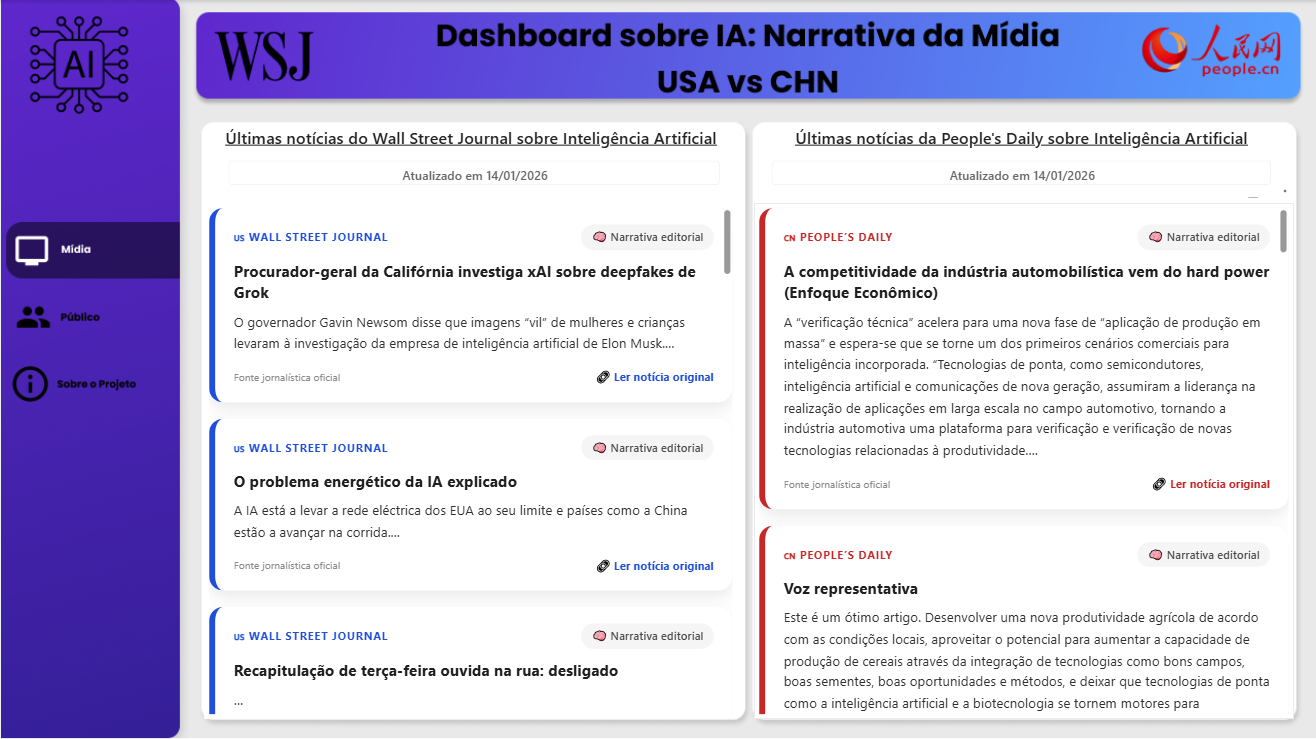

The dashboard page shown, as its layout file describes it:
{"tool":"powerbi","page":{"name":"Mídia","canvas":[1280,720],"ordinal":0},"visuals":[{"type":"htmlContent443BE3AD55E043BF878BED274D3A6855","fields":{"content":["_medidas.Noticia_HTML"],"sampling":["dados.titulo_pt","dados.ordem_coleta"]},"box":[197.4,197.4,519.4,501.9],"z":0},{"type":"htmlContent443BE3AD55E043BF878BED274D3A6855","fields":{"content":["_medidas.Noticia_HTML"],"sampling":["dados.titulo_pt","dados.ordem_coleta"]},"box":[732.4,197.4,525.2,501.9],"z":1000},{"type":"textbox","box":[197.4,117.7,519.4,47.7],"z":2000},{"type":"textbox","box":[732.4,117.7,520.4,47.7],"z":3000},{"type":"pageNavigator","box":[0,217.9,175.1,181.9],"z":4000},{"type":"cardVisual","fields":{"Data":["_medidas.WSJ_DataAtualizacao"]},"box":[204.3,139.1,512.6,58.4],"z":5000},{"type":"cardVisual","fields":{"Data":["_medidas.WSJ_DataAtualizacao"]},"box":[732.4,139.1,520.4,58.4],"z":6000}]}

Visuals, with their boxes on the page's 1280x720 design canvas (x1, y1, x2, y2). These are canvas units, not pixel positions in the 1316x739 screenshot, which may show the page scaled, cropped or inside an application window:
htmlContent443BE3AD55E043BF878BED274D3A6855 - _medidas.Noticia_HTML x dados.titulo_pt: BBox(197, 197, 717, 699)
htmlContent443BE3AD55E043BF878BED274D3A6855 - _medidas.Noticia_HTML x dados.titulo_pt: BBox(732, 197, 1258, 699)
textbox: BBox(197, 118, 717, 165)
textbox: BBox(732, 118, 1253, 165)
pageNavigator: BBox(0, 218, 175, 400)
cardVisual - _medidas.WSJ_DataAtualizacao: BBox(204, 139, 717, 198)
cardVisual - _medidas.WSJ_DataAtualizacao: BBox(732, 139, 1253, 198)
